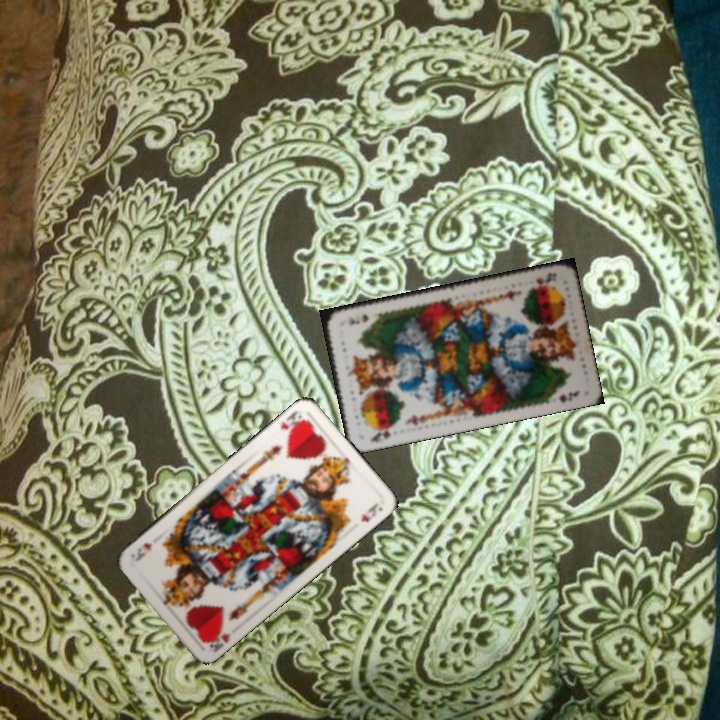HK: (201, 622, 233, 655), (277, 406, 307, 436)
SK: (366, 422, 397, 445), (532, 269, 559, 289)
